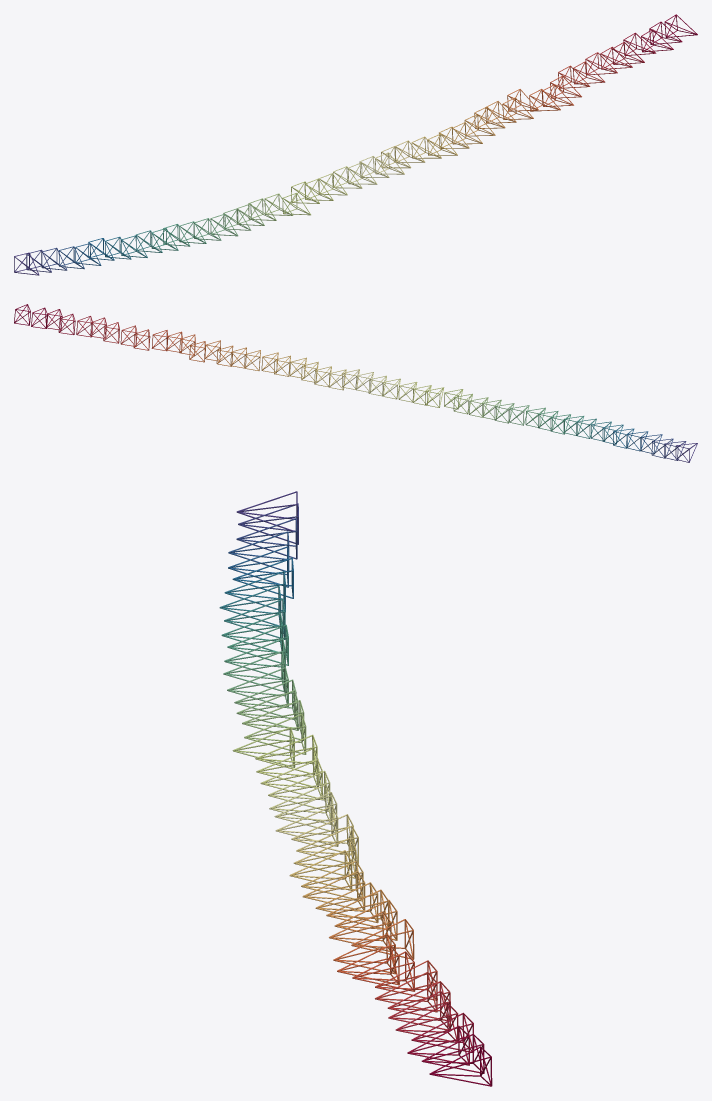
Rendered from bled_castle.glb.
The picture shows the model from 3 angles, top to bottom: view 1: azimuth 30°, elevation 25°; view 2: azimuth 150°, elevation 25°; view 3: azimuth 270°, elevation 25°; orthographic projection. The views are drawn at different scales.
Size of the model in its own units: 43.64 by 2.84 by 8.19.
